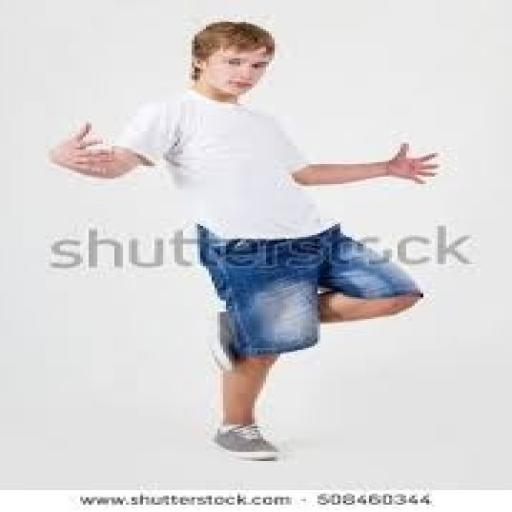dancing: (43, 18, 443, 463)
